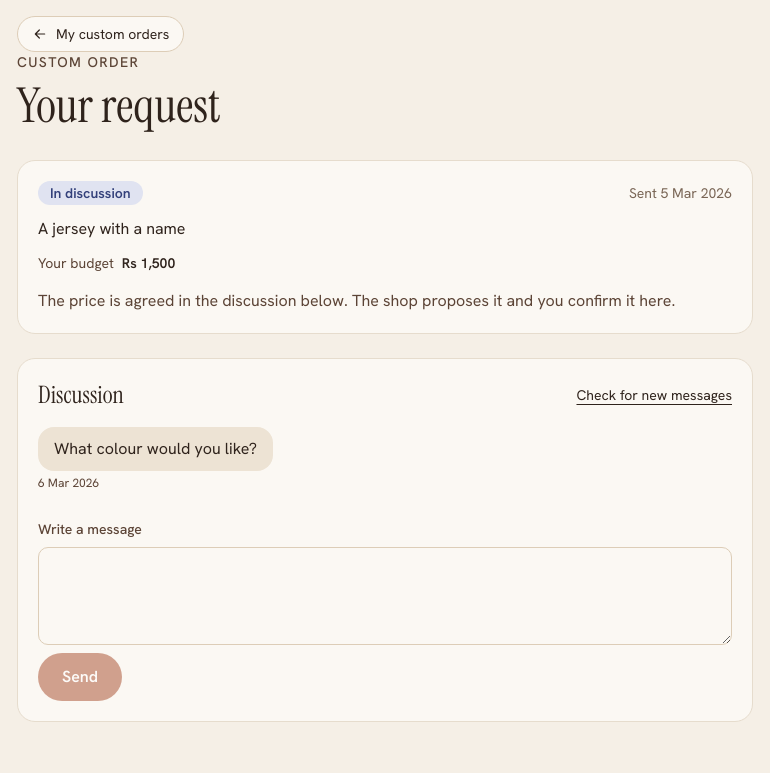
explains a failed send and keeps the text
Type "Hello" into the text box labelled "Write a message" at (385, 596), box [38,547,732,645]
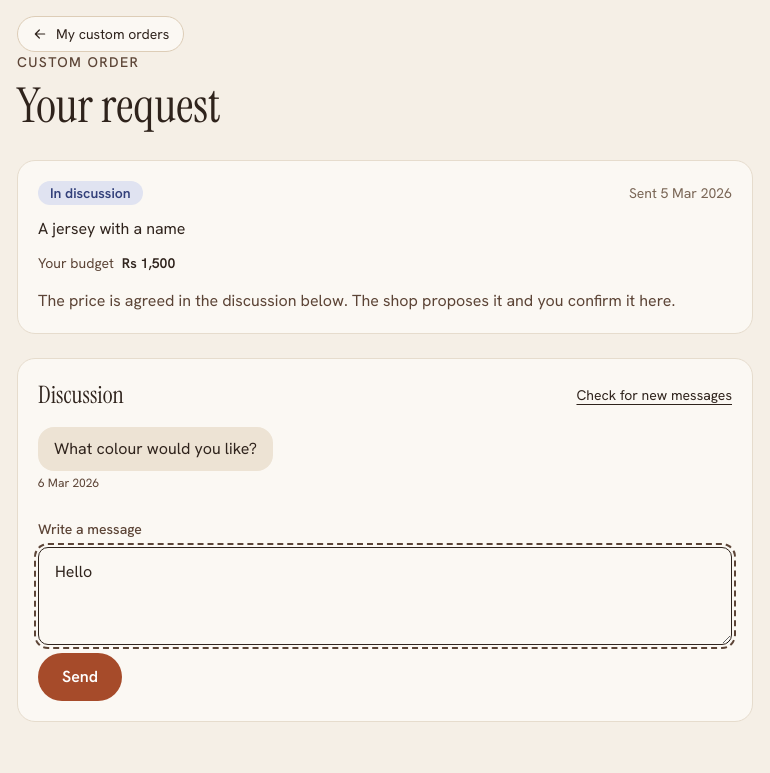
Click the button "Send" at (80, 677), box [38,653,122,701]
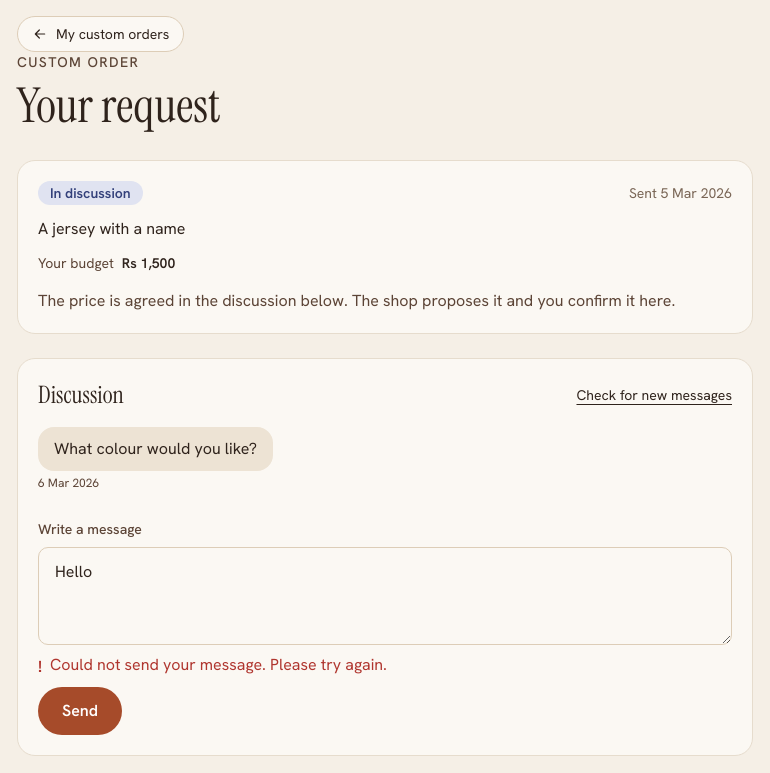
Check: the message shows "Could not send", box [50,654,387,675]
